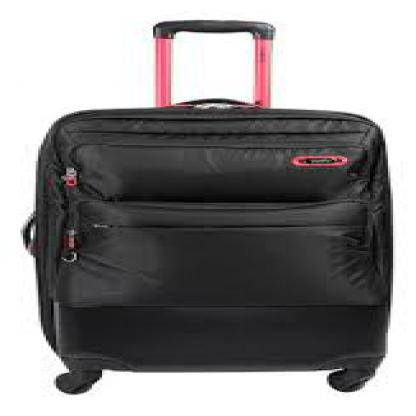morral: (10, 5, 401, 402)
